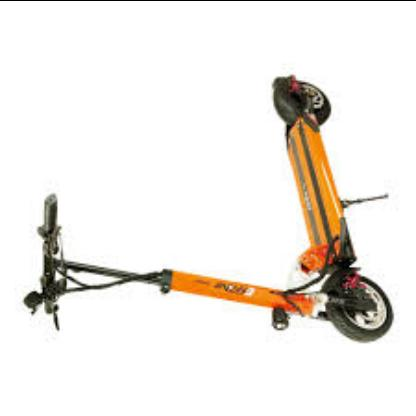bike: (164, 76, 395, 344), (269, 76, 395, 343)
